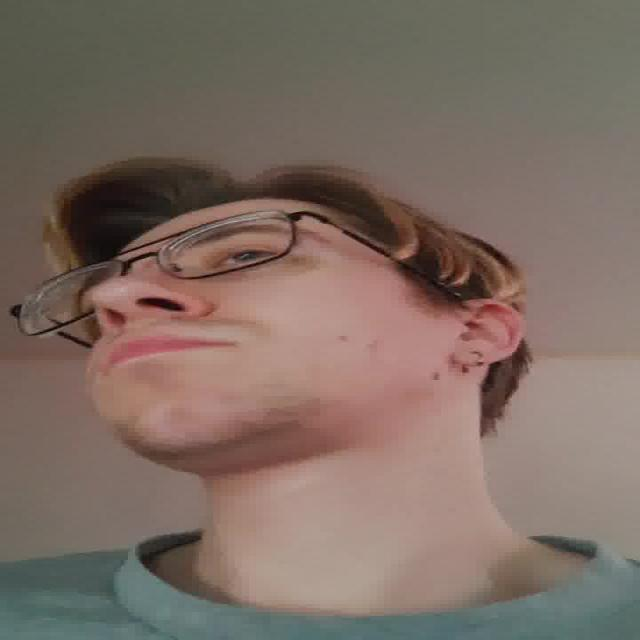earlobe: (450, 298, 524, 366)
